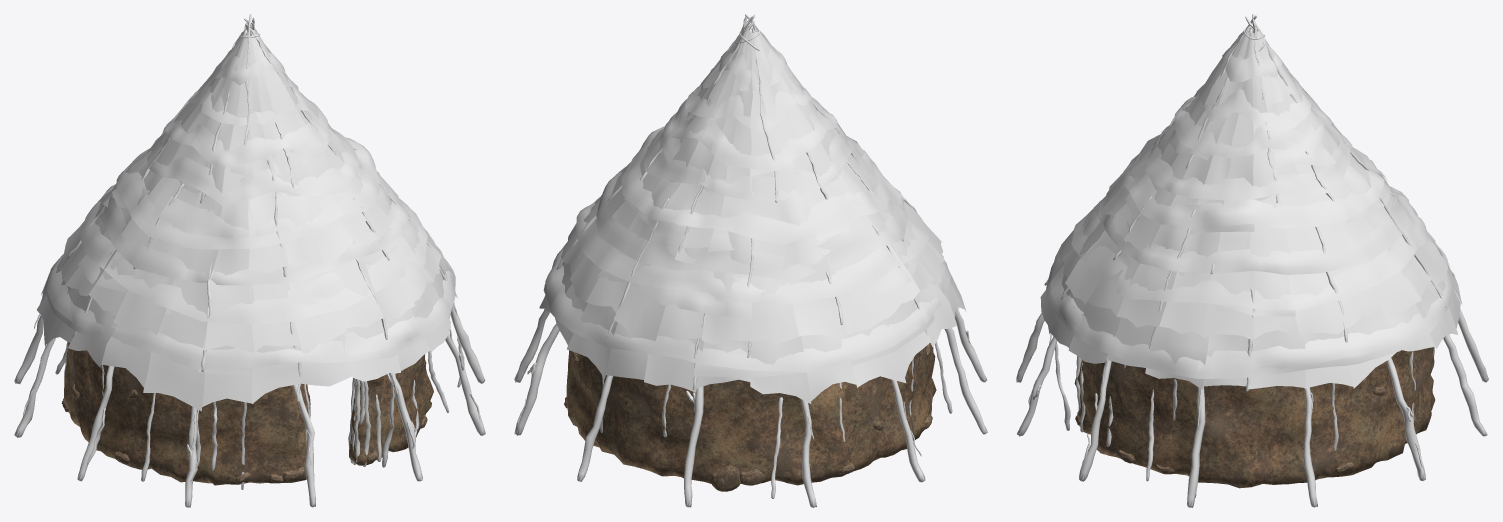
Rendered from highpoly_african_hut_001.fbx.
The picture shows the model from 3 angles, left to right: view 1: azimuth 30°, elevation 25°; view 2: azimuth 150°, elevation 25°; view 3: azimuth 270°, elevation 25°; orthographic projection.
Visible parts, largest first — view 1: highpoly_african_hut_001; view 2: highpoly_african_hut_001; view 3: highpoly_african_hut_001.
Boxes of the visible parts, bbox=[...] form: highpoly_african_hut_001: bbox=[14, 14, 485, 507]; highpoly_african_hut_001: bbox=[514, 14, 987, 507]; highpoly_african_hut_001: bbox=[1016, 14, 1488, 507].
Size of the model in its own units: 450 by 422 by 449.
